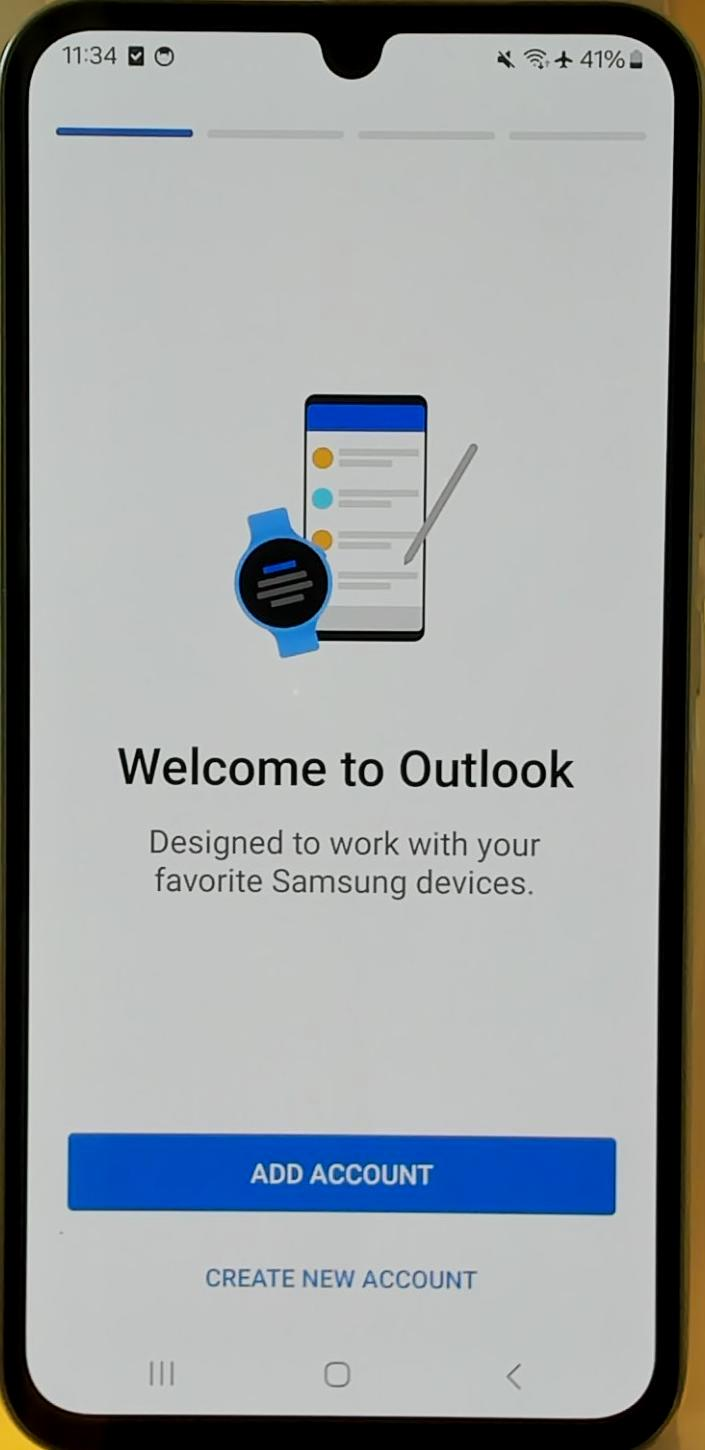CommunBotton: (66, 1126, 622, 1224), (192, 1254, 488, 1302), (313, 1350, 359, 1394), (499, 1350, 532, 1395), (144, 1354, 184, 1391)
